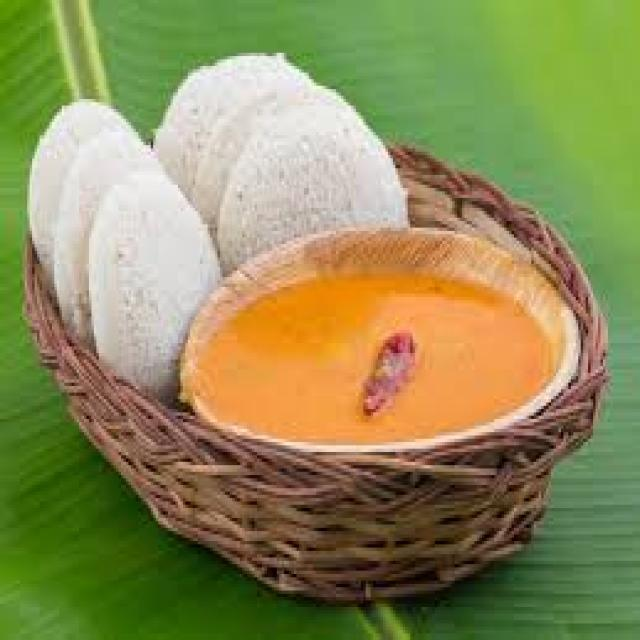IDLI: (217, 96, 405, 267), (158, 53, 319, 238), (89, 168, 217, 396), (54, 129, 156, 336), (27, 102, 128, 287)
